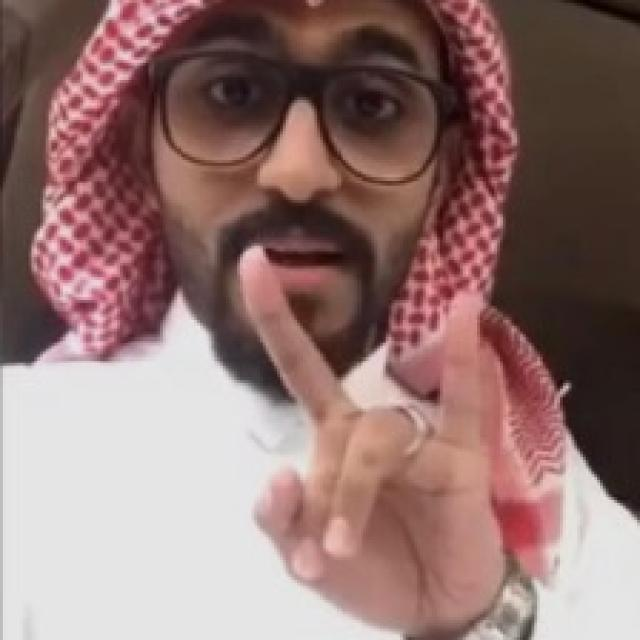No: (235, 239, 500, 623)
